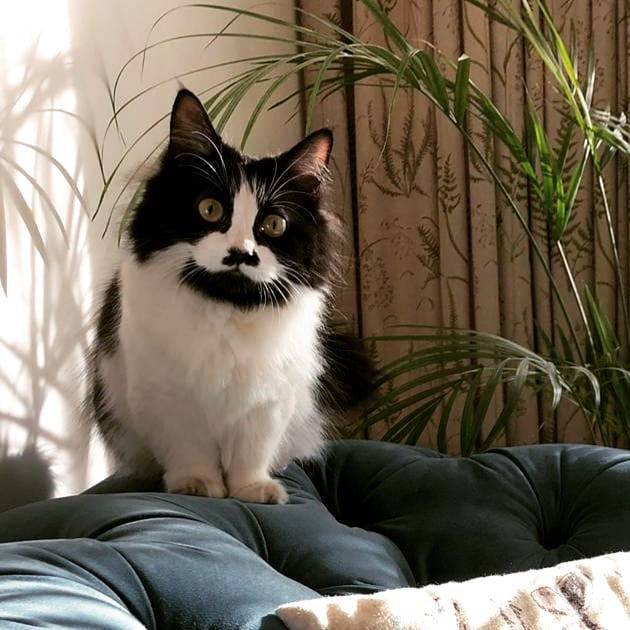cat: (146, 90, 339, 321)
